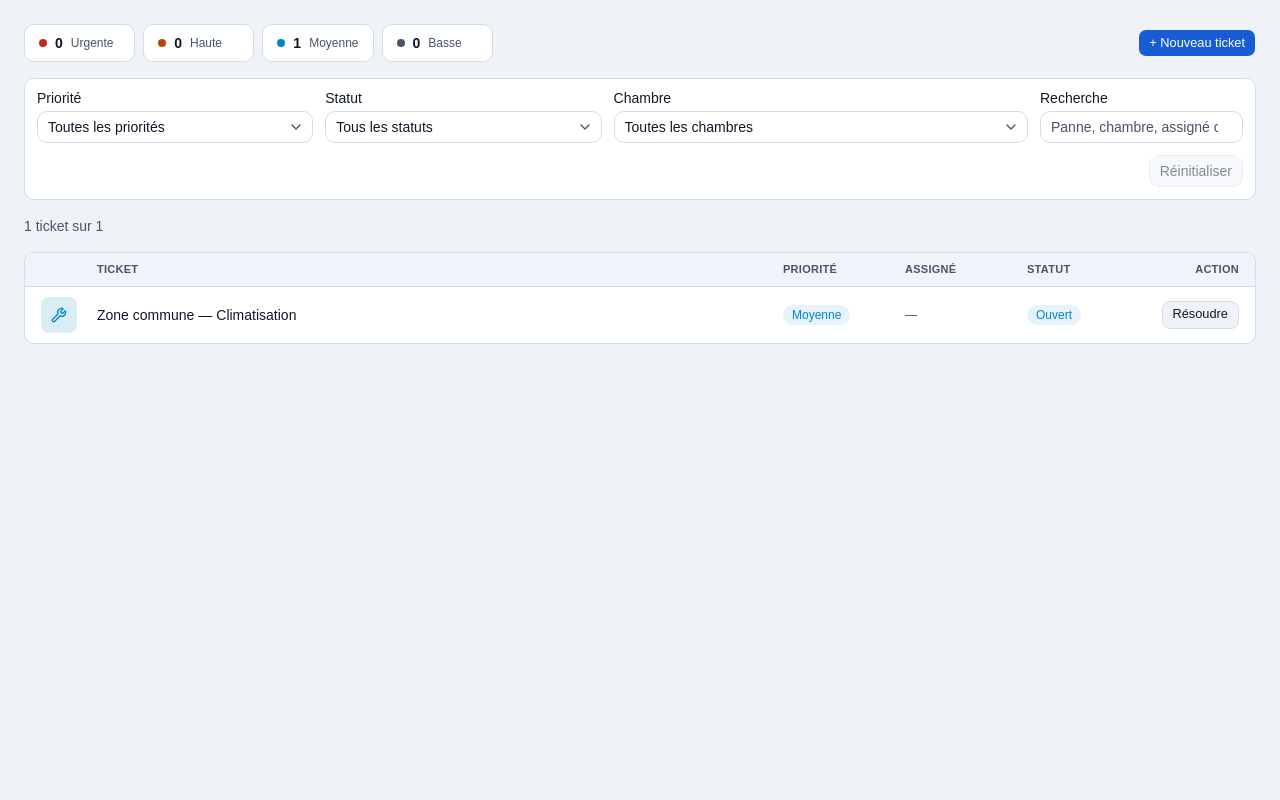
MaintenancePage — création, résolution et accessibilité › conserve la recherche active après une création et ne recharge pas les chambres
This screenshot has width=1280, height=800.
Expected: the text "1 ticket sur 1" is shown, [24,218,103,234]
Type "clim" into the search field labelled "Recherche". click: point(1142, 127)
box: [1040,111,1243,143]
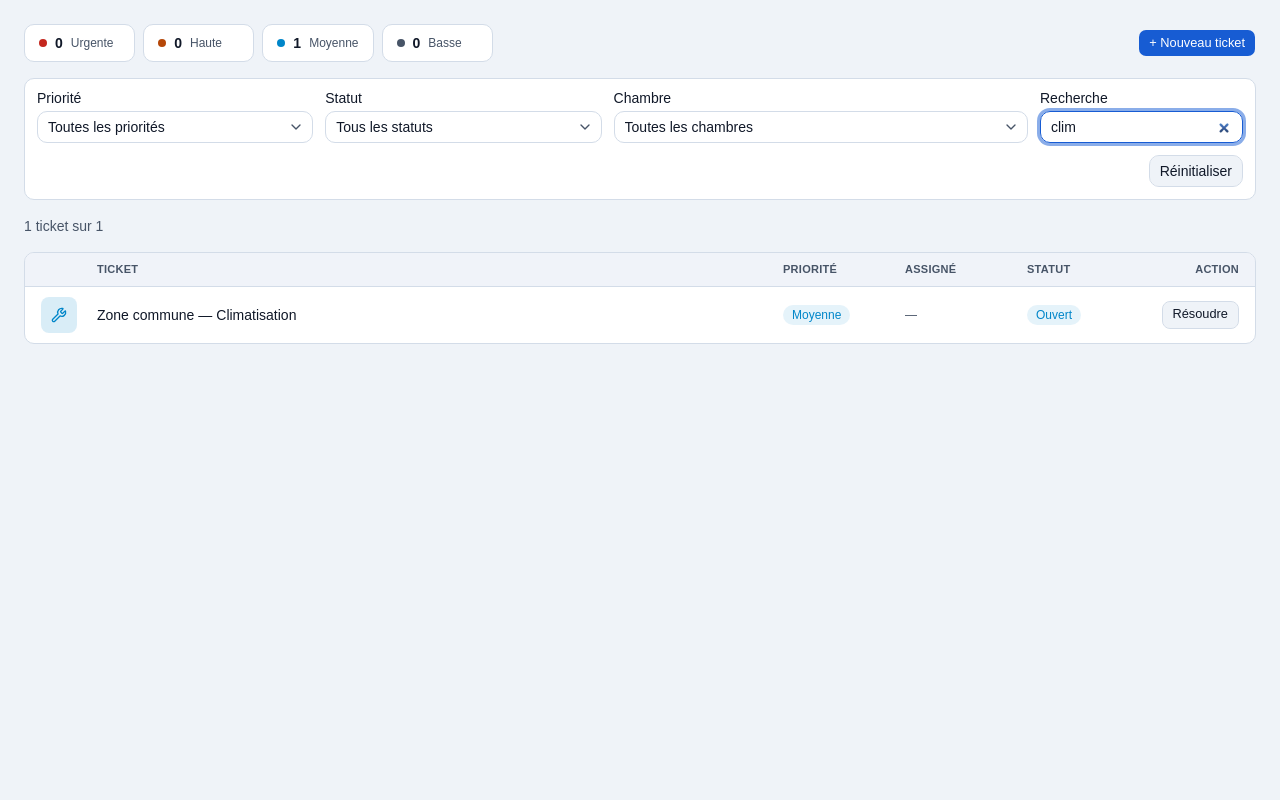
Click the button "+ Nouveau ticket". click: point(1197, 43)
box: [1138,29,1256,57]
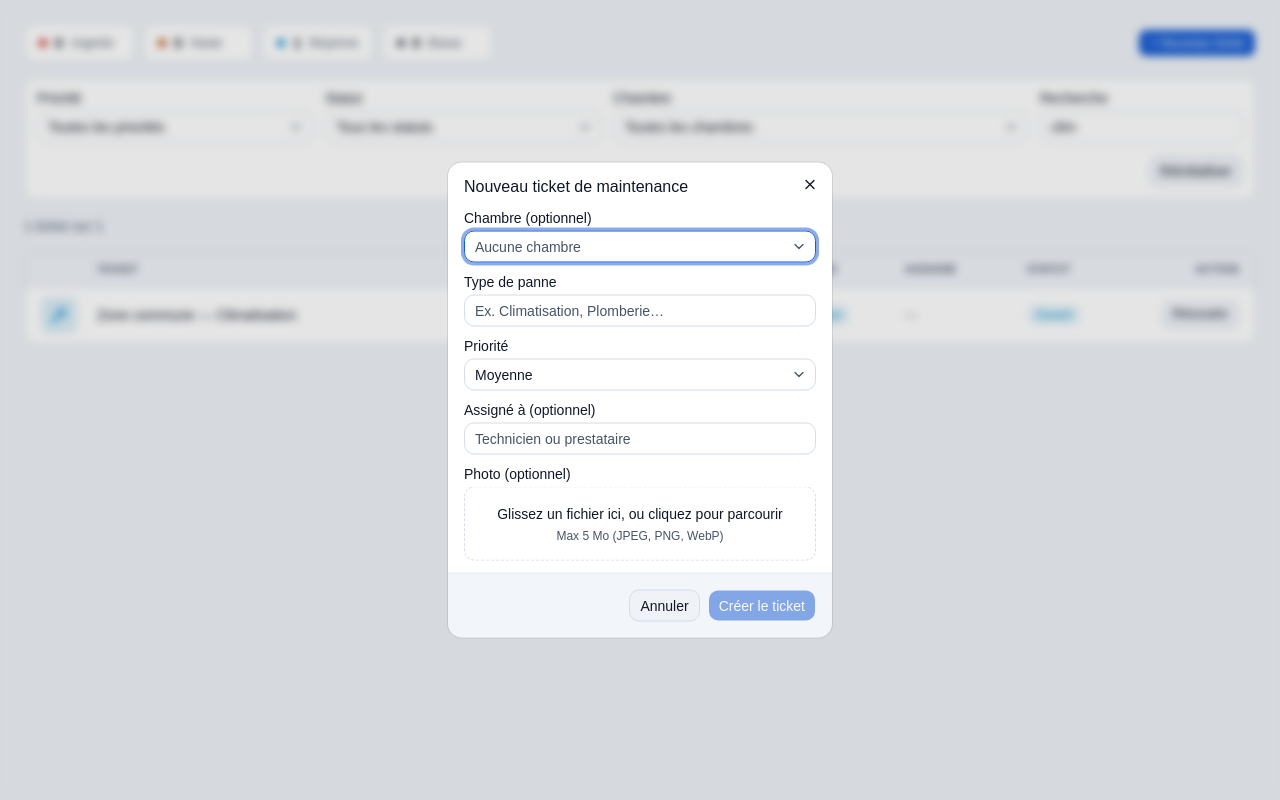
Type "Ventilation" into the field labelled "Type de panne". click: point(640, 310)
box: [464,294,816,326]
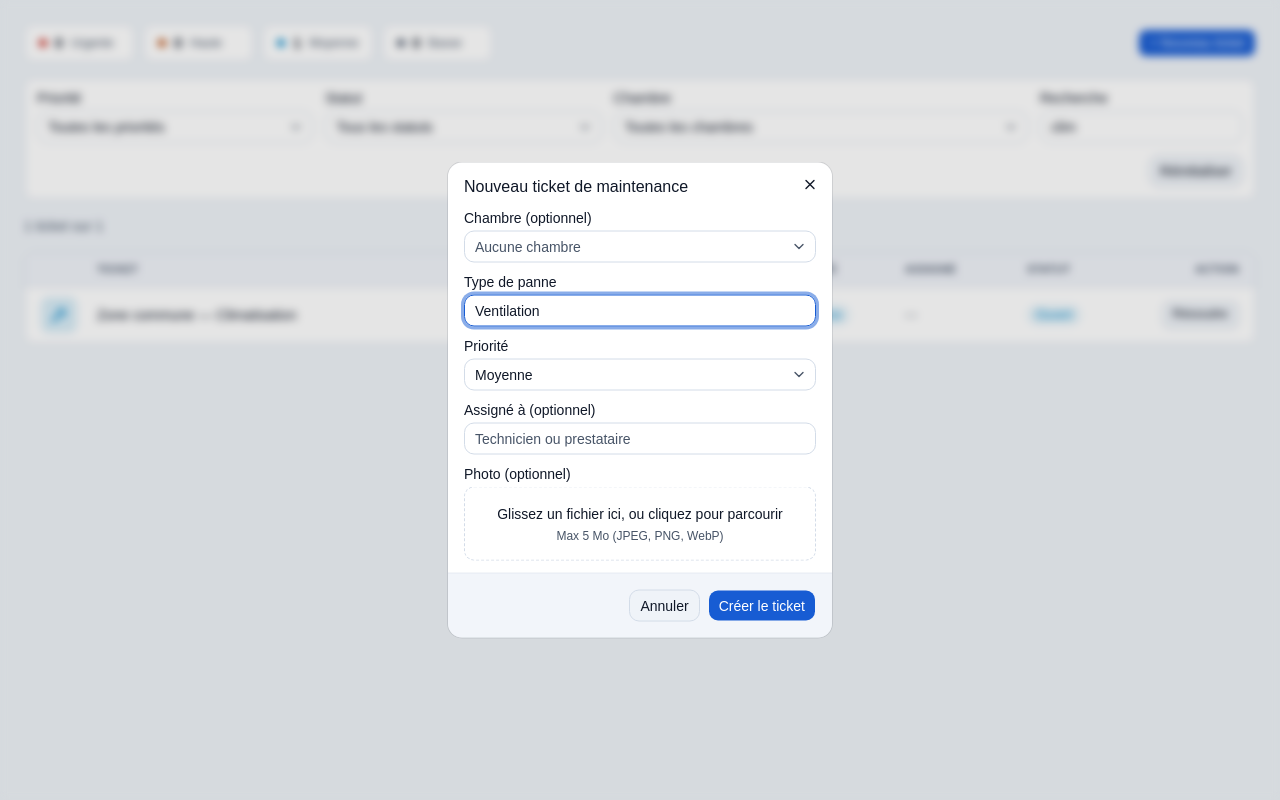
Click the button "Créer le ticket". click: point(762, 606)
box: [708,590,816,622]
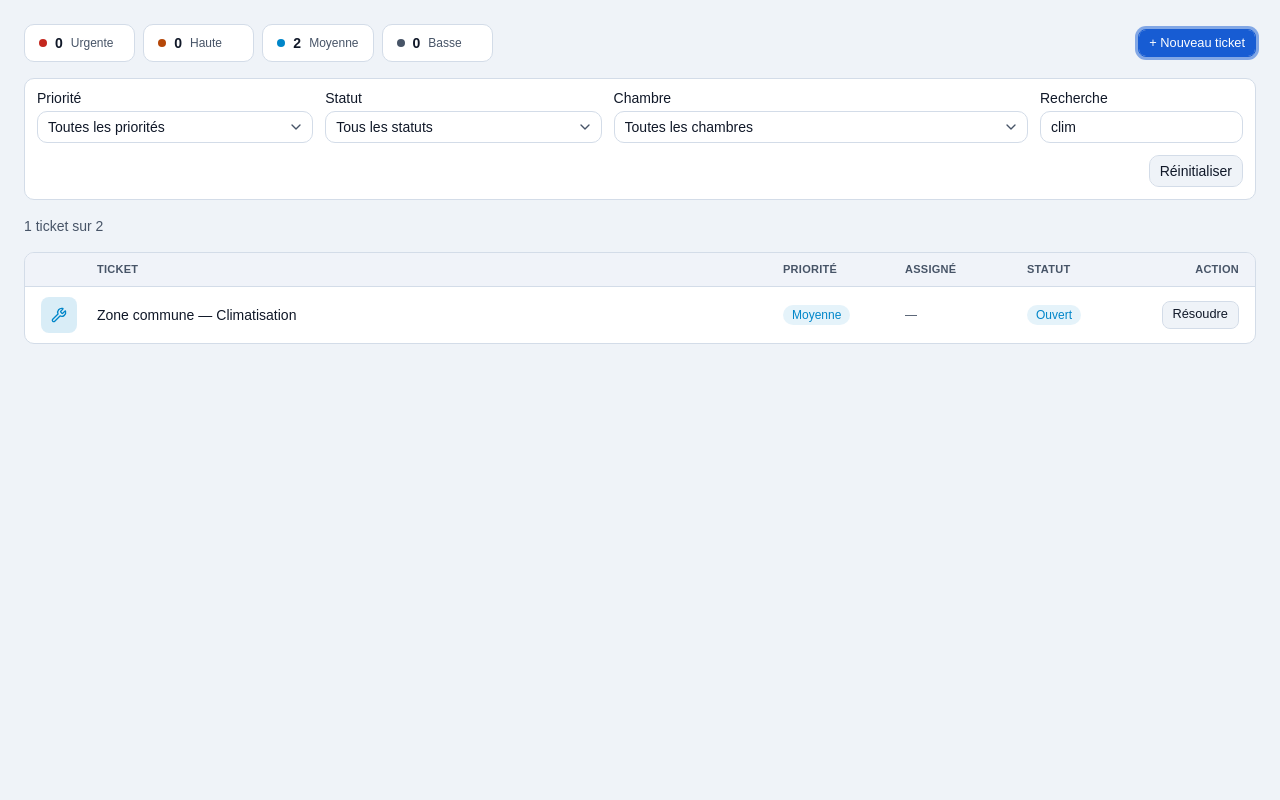
Now the text "1 ticket sur 2" is shown, box [24,218,103,234]
